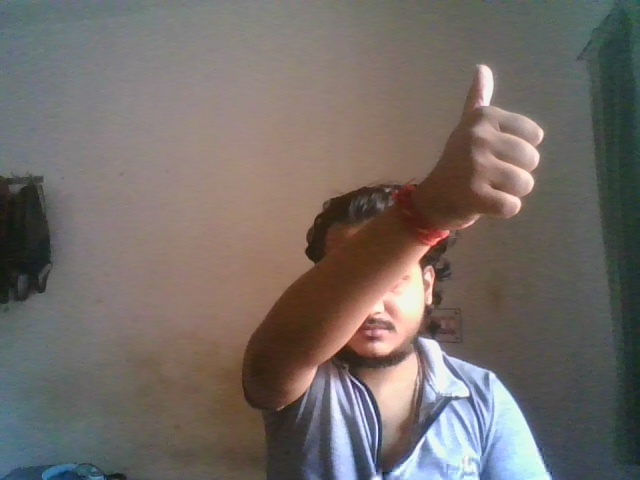ThumbsUp: (433, 63, 542, 232)
